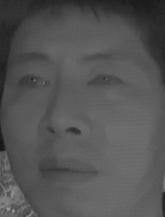eye: (15, 69, 52, 95), (85, 70, 124, 93)
mouth: (32, 150, 98, 191)
